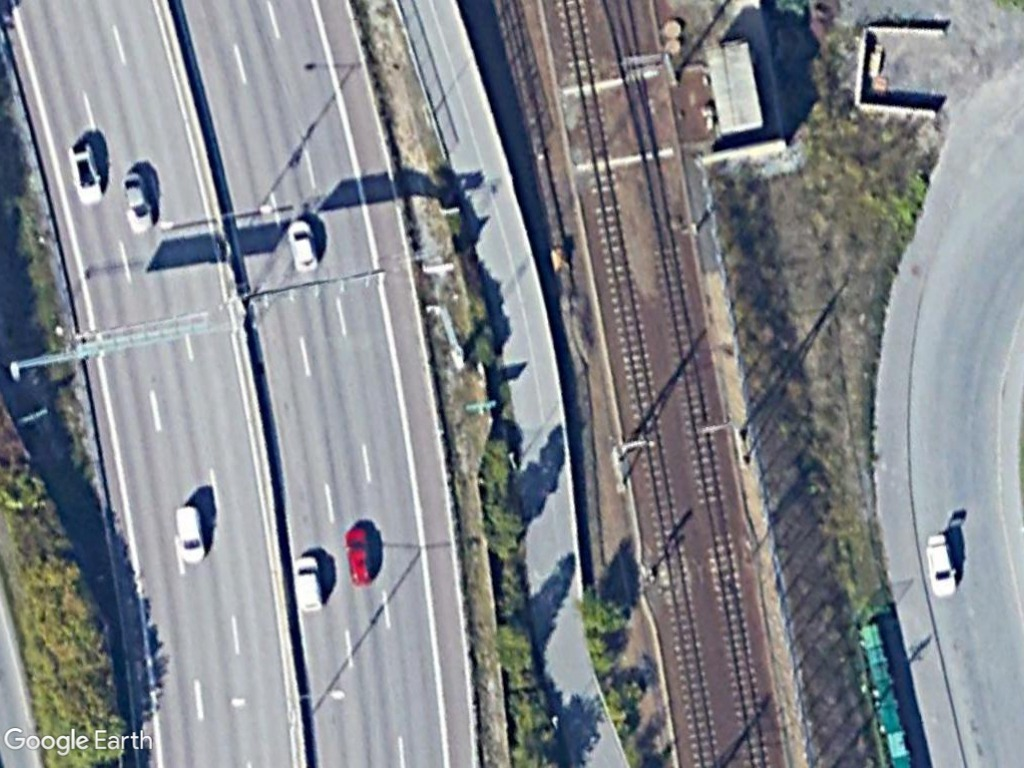car: (65, 138, 109, 209), (118, 166, 155, 233), (920, 536, 958, 600), (285, 218, 323, 277), (343, 525, 377, 589), (293, 553, 327, 614)
van: (172, 501, 210, 566)
